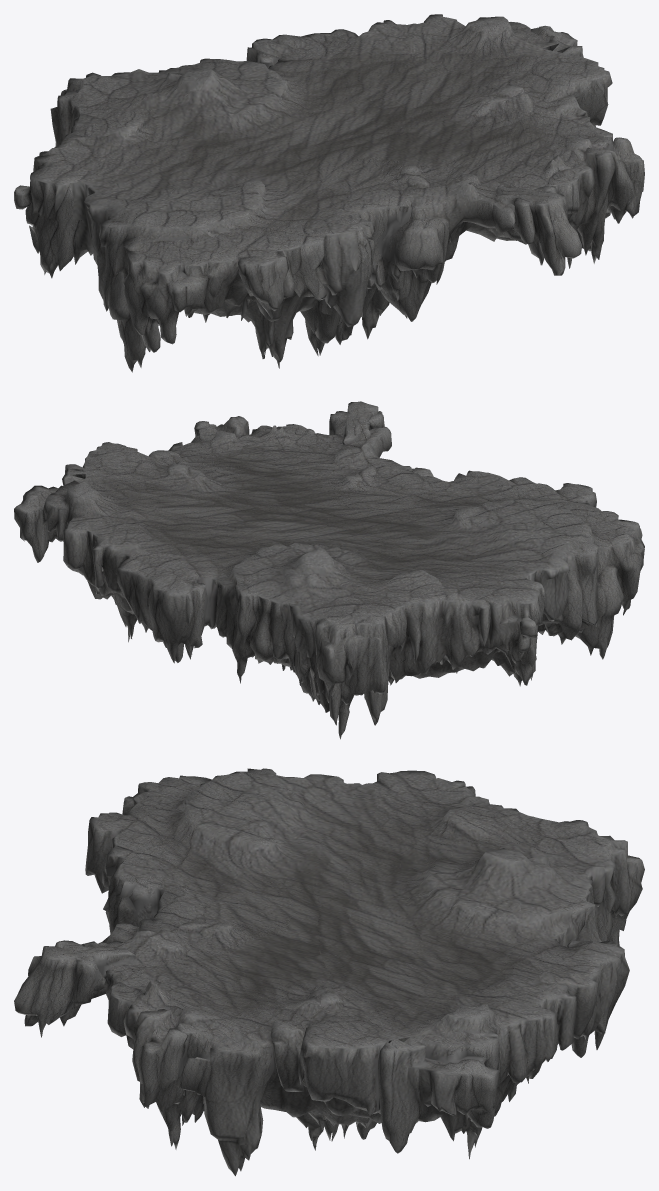
Rendered from island.glb.
3 views of the same model, one above another, from view 1: azimuth 30°, elevation 25°; view 2: azimuth 150°, elevation 25°; view 3: azimuth 270°, elevation 25° (orthographic). The views are drawn at different scales.
Size of the model in its own units: 0.9448 by 0.3828 by 0.8159.
Materials: 1 (1 with a texture image).
